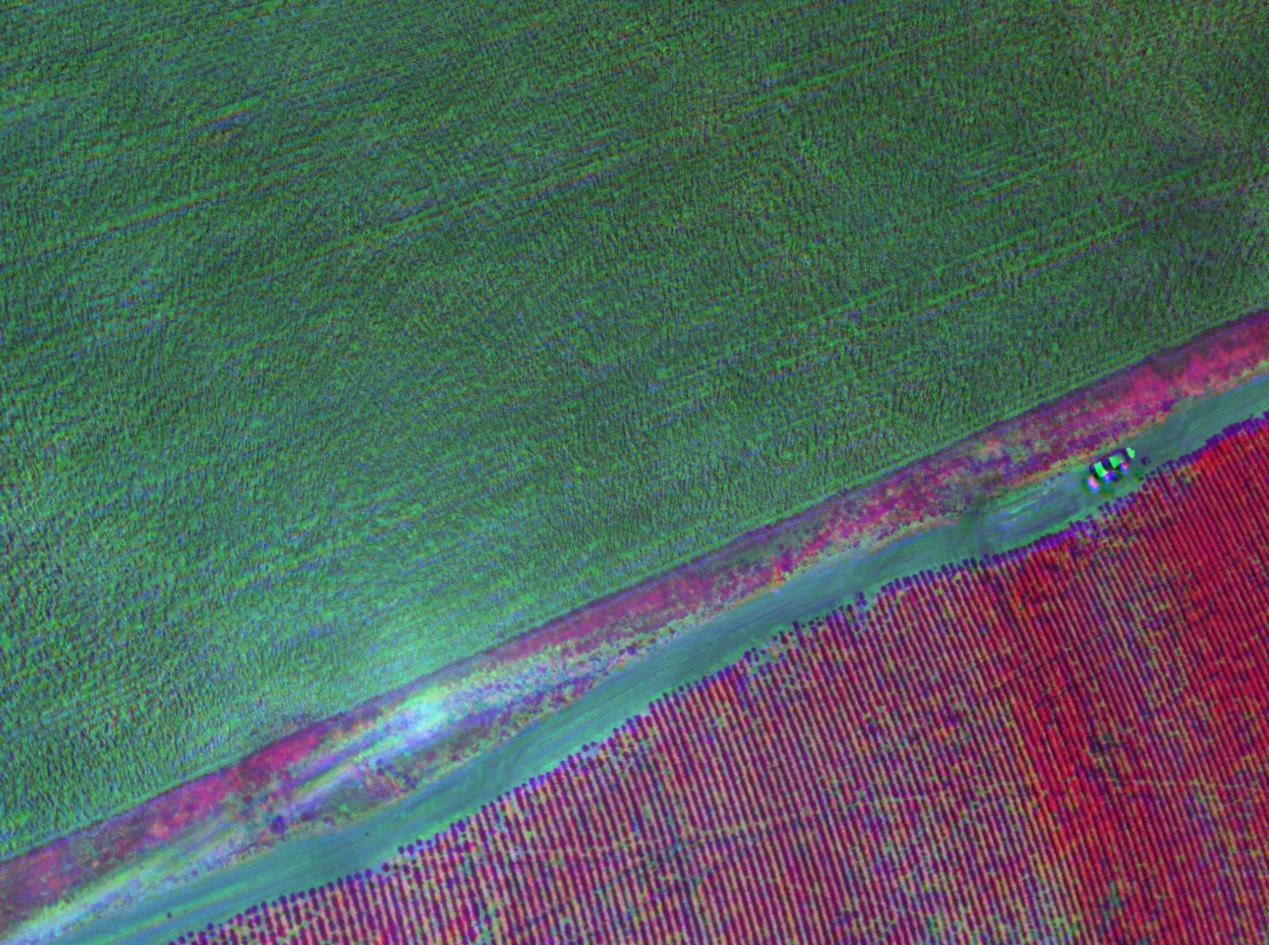dc: (1036, 873, 1080, 939), (748, 638, 807, 683), (885, 823, 935, 872), (933, 903, 990, 945), (470, 892, 508, 945)
